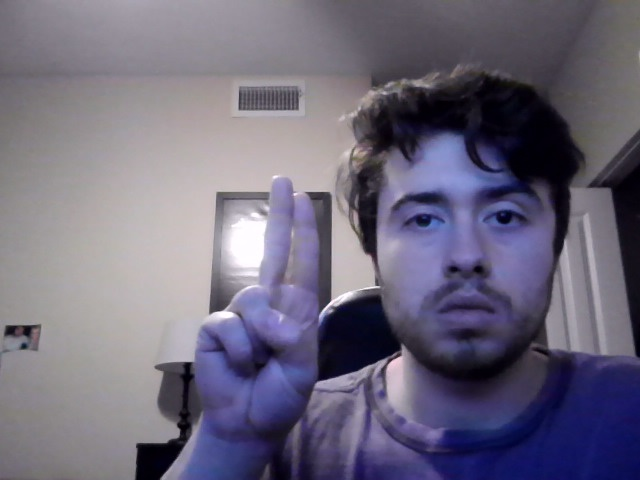u: (193, 175, 319, 458)
